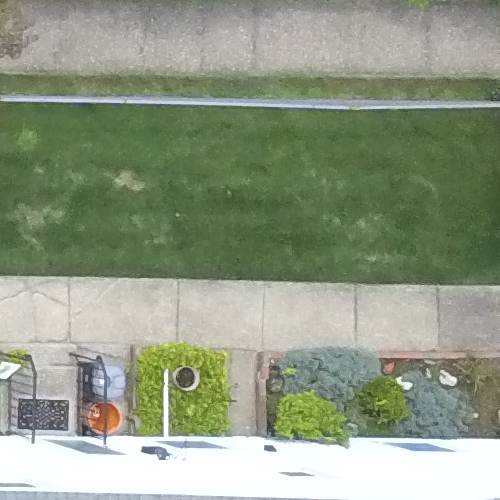container: (76, 394, 125, 437)
flower pot: (166, 360, 214, 396), (269, 367, 289, 392)
trash bin: (76, 354, 127, 401)
